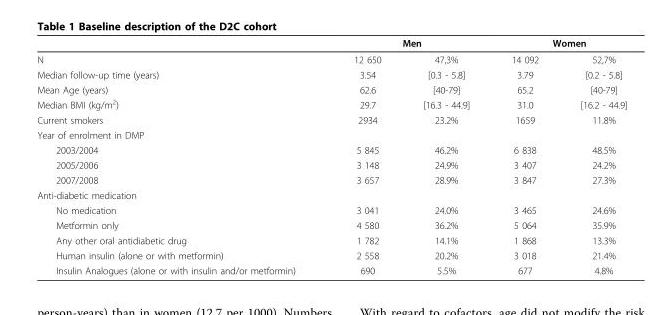table: (36, 36, 626, 275)
table column: (36, 36, 324, 275), (401, 36, 489, 275), (324, 36, 401, 275), (489, 36, 558, 275), (558, 36, 626, 275)
table column header: (36, 36, 626, 66)
table projected row header: (36, 127, 626, 142), (36, 187, 626, 202)
table row: (36, 50, 626, 66), (36, 96, 626, 112), (36, 66, 626, 81), (36, 81, 626, 96), (36, 112, 626, 127), (36, 127, 626, 142), (36, 142, 626, 157), (36, 157, 626, 172), (36, 172, 626, 187), (36, 187, 626, 202), (36, 202, 626, 217), (36, 217, 626, 232), (36, 232, 626, 247), (36, 247, 626, 262), (36, 36, 626, 50), (36, 262, 626, 275)
table spanning cell: (36, 36, 324, 66), (324, 36, 489, 50), (489, 36, 626, 50)
